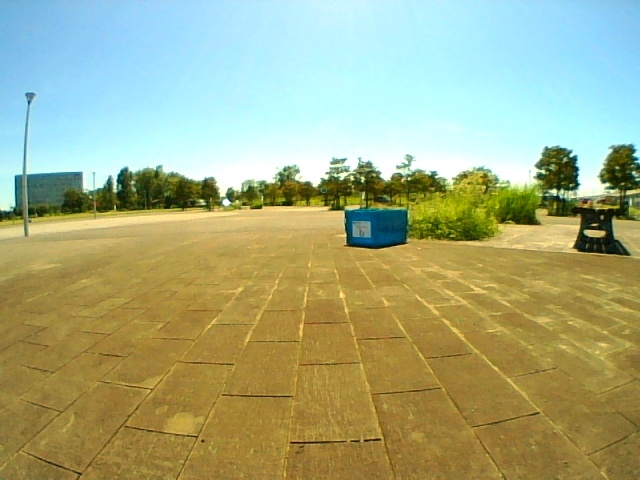blue_box: (346, 210, 408, 245)
tag_b: (353, 222, 370, 237)
